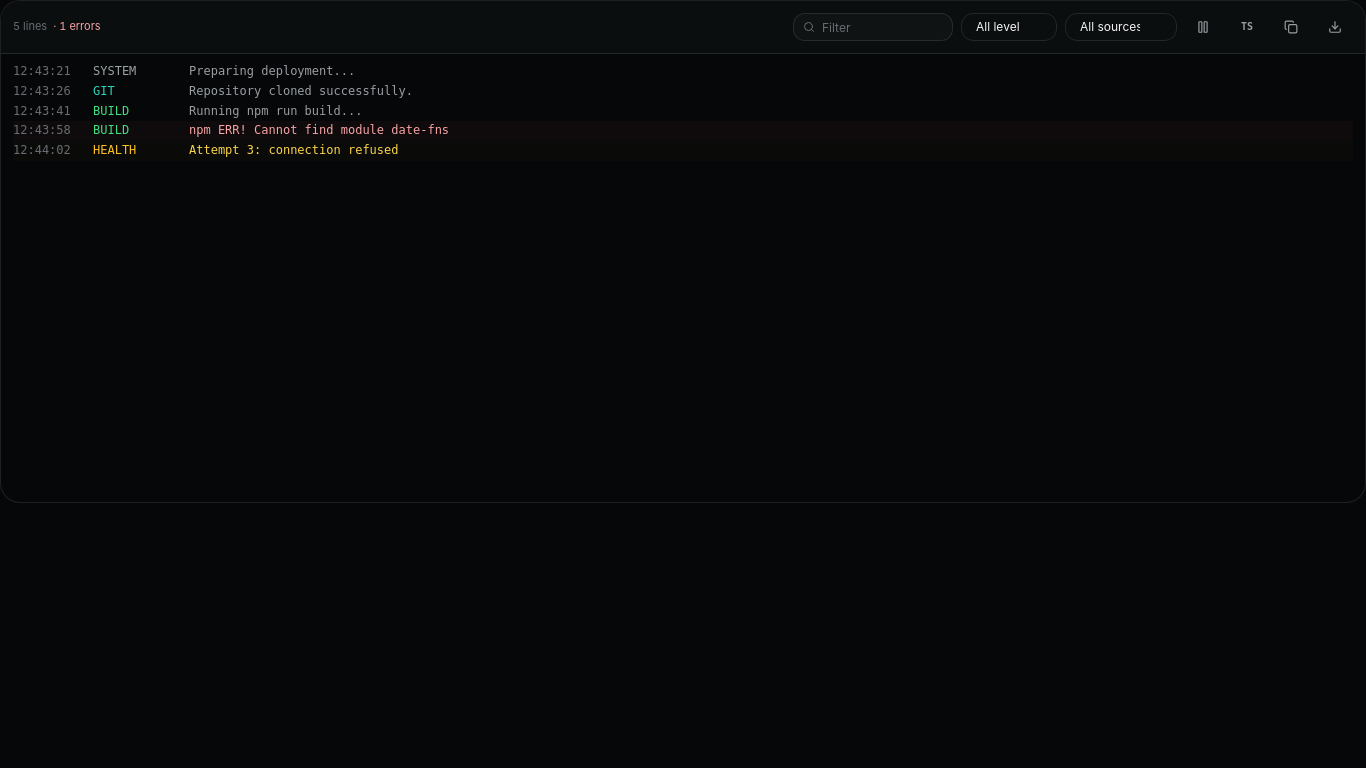
Test: LogTerminal › searches within messages
Type "npm" into the field named "Search logs" at coordinates (873, 27), box [793,13,953,41]
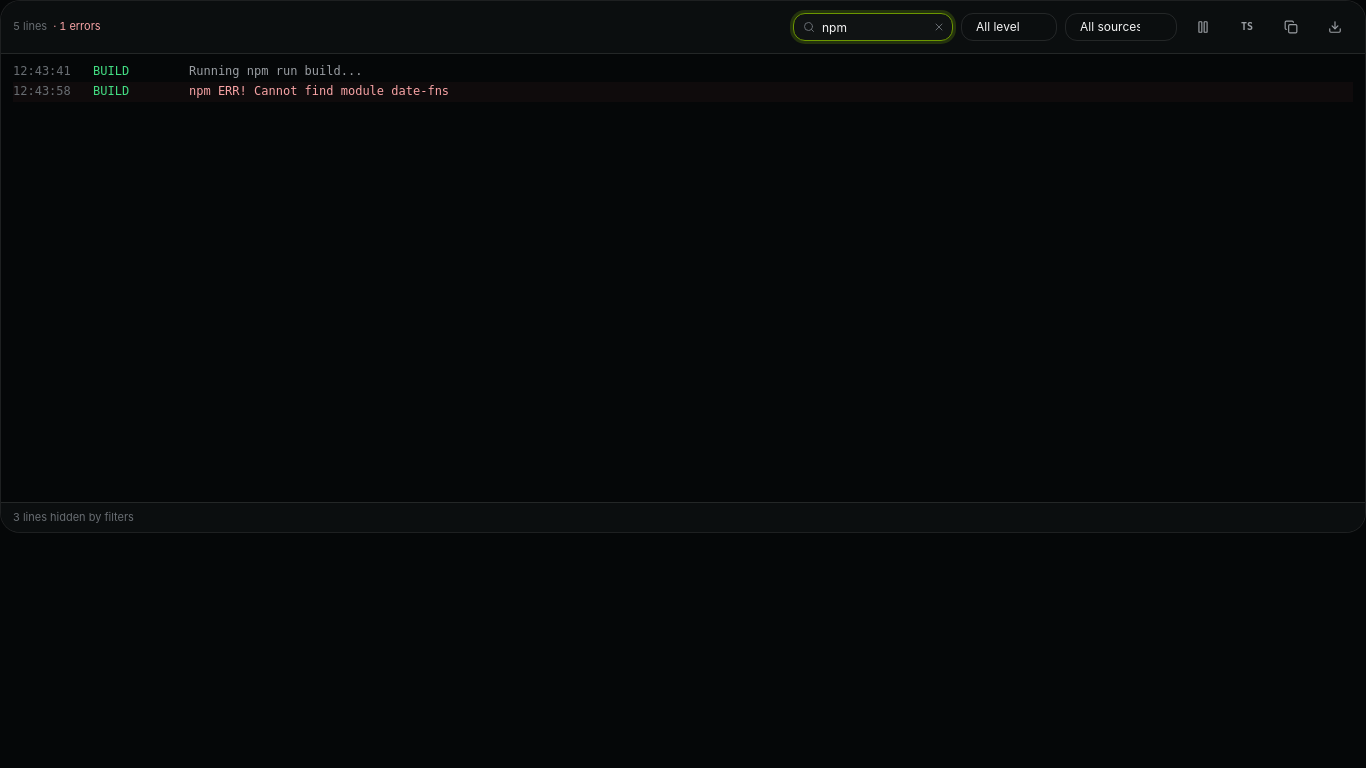
Expected: the text "Running npm run build..." is shown, [189,62,1353,82]
Result: the text "Preparing deployment..." is gone
